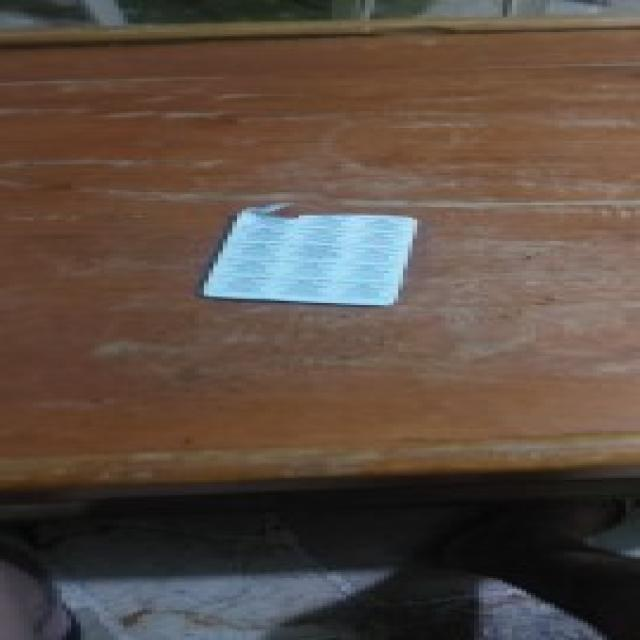Cacat: (199, 197, 417, 308)
Kemasan: (237, 200, 316, 227)
